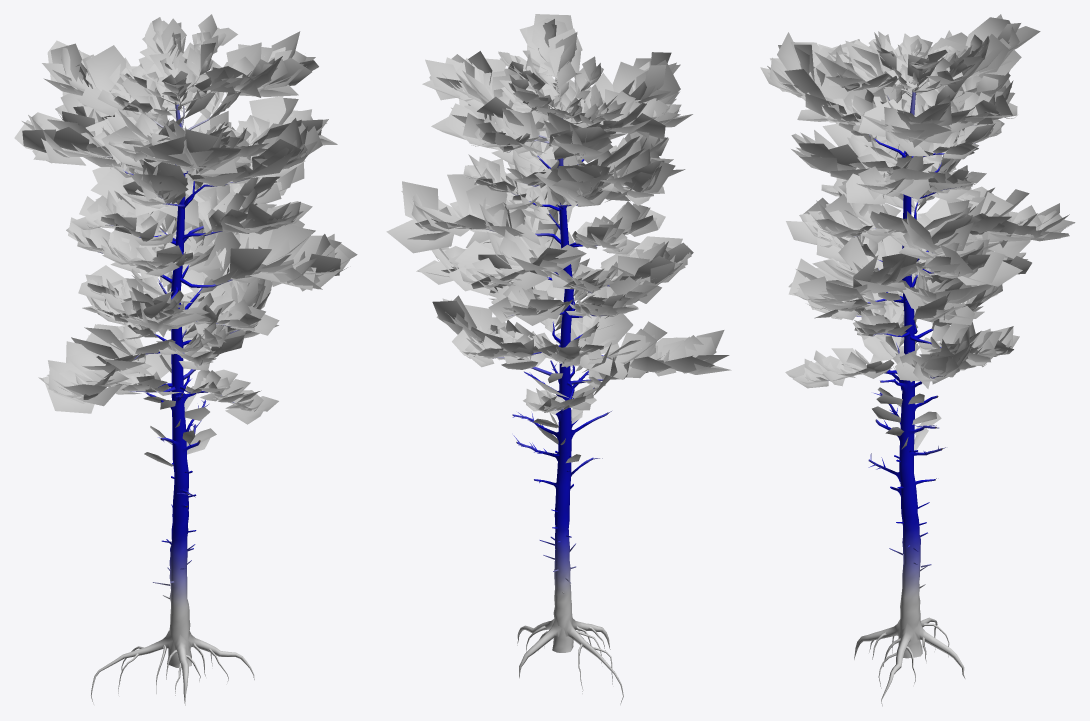
File: Pine_03_LOD1.fbx
The picture shows the model from 3 angles, left to right: view 1: azimuth 30°, elevation 25°; view 2: azimuth 150°, elevation 25°; view 3: azimuth 270°, elevation 25°; orthographic projection. The views are drawn at different scales.
Visible parts, largest first — view 1: polySurface2999; view 2: polySurface2999; view 3: polySurface2999.
Part boxes in pixels (<box>): polySurface2999: <box>14,14,357,705</box>; polySurface2999: <box>386,14,731,704</box>; polySurface2999: <box>760,14,1075,706</box>.
Size of the model in its own units: 1350 by 2837 by 1223.
